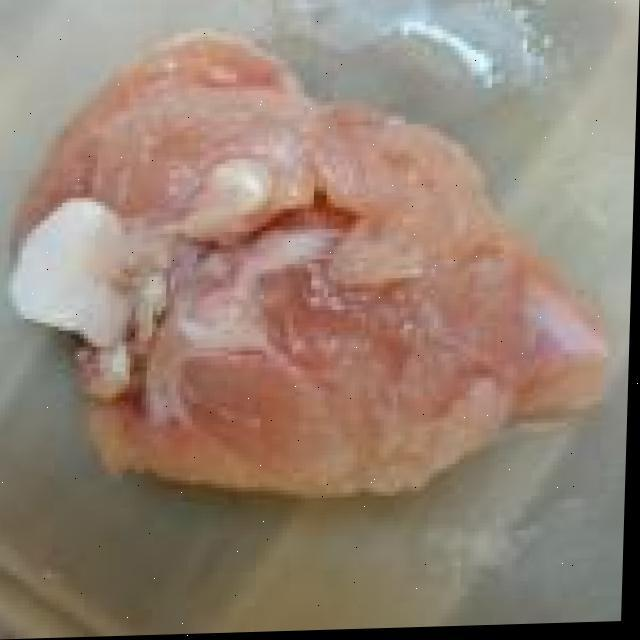breast: (6, 9, 606, 493)
